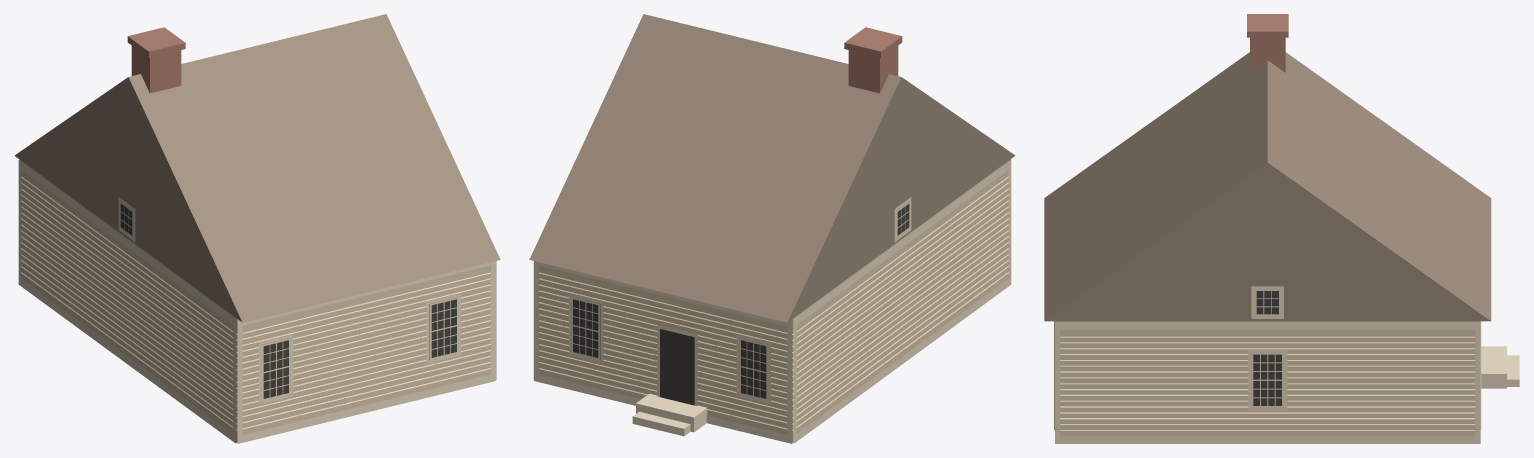
Rendered from recon_1835_blk_school_section_tier_94_d6_06__inferred_1835.glb.
3 views of the same model, side by side, from view 1: azimuth 30°, elevation 25°; view 2: azimuth 150°, elevation 25°; view 3: azimuth 270°, elevation 25° (orthographic). The views are drawn at different scales.
Parts seen in each view (by area): view 1: recon_1835_blk_school_section_tier_94_d6_06__inferred_1835; view 2: recon_1835_blk_school_section_tier_94_d6_06__inferred_1835; view 3: recon_1835_blk_school_section_tier_94_d6_06__inferred_1835.
Part boxes in pixels (<box>): recon_1835_blk_school_section_tier_94_d6_06__inferred_1835: <box>14,14,500,443</box>; recon_1835_blk_school_section_tier_94_d6_06__inferred_1835: <box>529,14,1015,443</box>; recon_1835_blk_school_section_tier_94_d6_06__inferred_1835: <box>1044,14,1519,443</box>.
Bounding box in the file's own units: 6.98 × 8.09 × 11.21.
